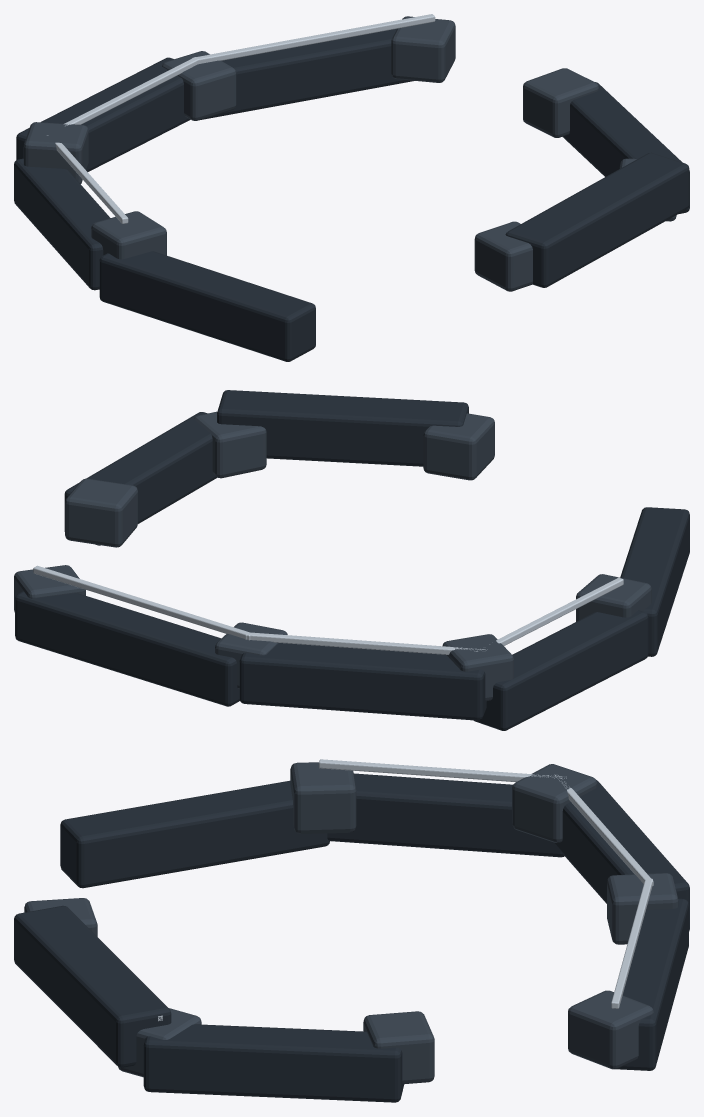
The model's file is ev_core_r11b_frame.glb.
3 renders of one model, top to bottom at view 1: azimuth 30°, elevation 25°; view 2: azimuth 150°, elevation 25°; view 3: azimuth 270°, elevation 25°, orthographic. The views are drawn at different scales.
Parts seen in each view (by area): view 1: FrameBeam_3, FrameBeam_4, FrameBeam_0, FrameBeam_1, FrameBeam_2, FrameBeam_5, FrameCorner_0, FrameCorner_7, FrameCorner_5, FrameCorner_1, FrameCorner_2, FrameCorner_3 (+3 smaller); view 2: FrameBeam_1, FrameBeam_0, FrameBeam_4, FrameBeam_2, FrameBeam_5, FrameBeam_3, FrameCorner_7, FrameCorner_5, FrameCorner_6, FrameCorner_2, FrameCorner_3, FrameEdgeLand_0 (+4 smaller); view 3: FrameBeam_3, FrameBeam_5, FrameBeam_4, FrameBeam_2, FrameBeam_0, FrameBeam_1, FrameCorner_0, FrameCorner_3, FrameCorner_2, FrameCorner_7, FrameCorner_1, FrameEdgeLand_2 (+4 smaller).
Part boxes in pixels (box(x1,y1,x2,y2)): FrameBeam_3: box(99, 251, 315, 361); FrameBeam_4: box(505, 152, 689, 287); FrameBeam_0: box(199, 28, 414, 120); FrameBeam_1: box(16, 57, 190, 171); FrameBeam_2: box(14, 158, 110, 290); FrameBeam_5: box(562, 82, 689, 213); FrameCorner_0: box(391, 16, 455, 82); FrameCorner_7: box(523, 68, 598, 137); FrameCorner_5: box(474, 221, 532, 291); FrameCorner_1: box(162, 51, 236, 120); FrameCorner_2: box(23, 122, 88, 183); FrameCorner_3: box(91, 211, 166, 259); FrameBeam_1: box(239, 643, 486, 720); FrameBeam_0: box(15, 591, 240, 706); FrameBeam_4: box(217, 390, 468, 466); FrameBeam_2: box(473, 610, 648, 730); FrameBeam_5: box(64, 412, 217, 545); FrameBeam_3: box(620, 507, 689, 656); FrameCorner_7: box(65, 478, 137, 547); FrameCorner_5: box(423, 413, 494, 480); FrameCorner_6: box(194, 411, 266, 478); FrameCorner_2: box(442, 634, 513, 701); FrameCorner_3: box(576, 574, 651, 621); FrameEdgeLand_0: box(33, 565, 251, 640); FrameBeam_3: box(60, 780, 329, 888); FrameBeam_5: box(143, 1024, 404, 1102); FrameBeam_4: box(14, 905, 171, 1067); FrameBeam_2: box(327, 773, 564, 857); FrameBeam_0: box(617, 898, 688, 1070); FrameBeam_1: box(552, 780, 689, 931); FrameCorner_0: box(568, 990, 653, 1069); FrameCorner_3: box(290, 762, 356, 833); FrameCorner_2: box(512, 764, 597, 842); FrameCorner_7: box(363, 1011, 434, 1084); FrameCorner_1: box(607, 873, 678, 944); FrameEdgeLand_2: box(318, 759, 566, 782).
Bounding box in the file's own units: 9.64 × 1.32 × 9.29.
